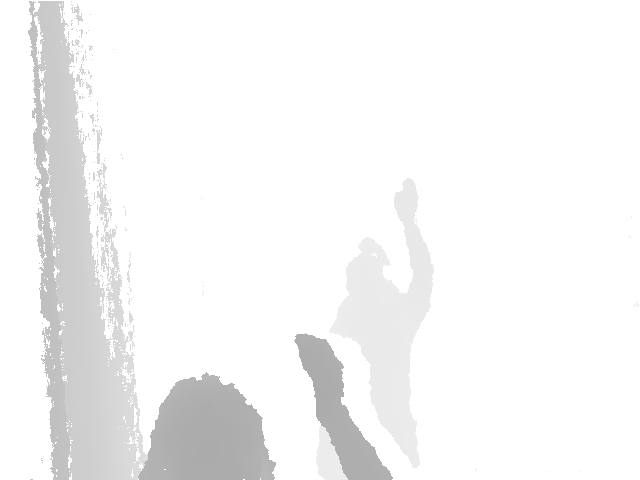hand: (294, 330, 347, 422), (393, 178, 424, 224)
head: (139, 376, 278, 480), (344, 234, 389, 301)
person: (129, 327, 384, 480), (334, 178, 432, 472)
